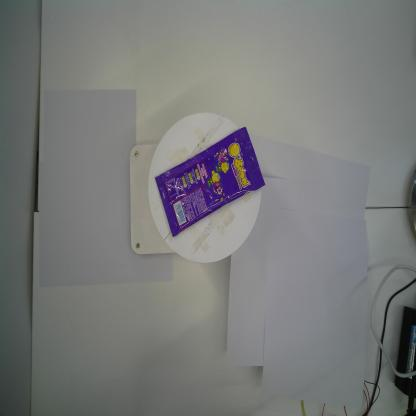Candy: (154, 126, 266, 238)
